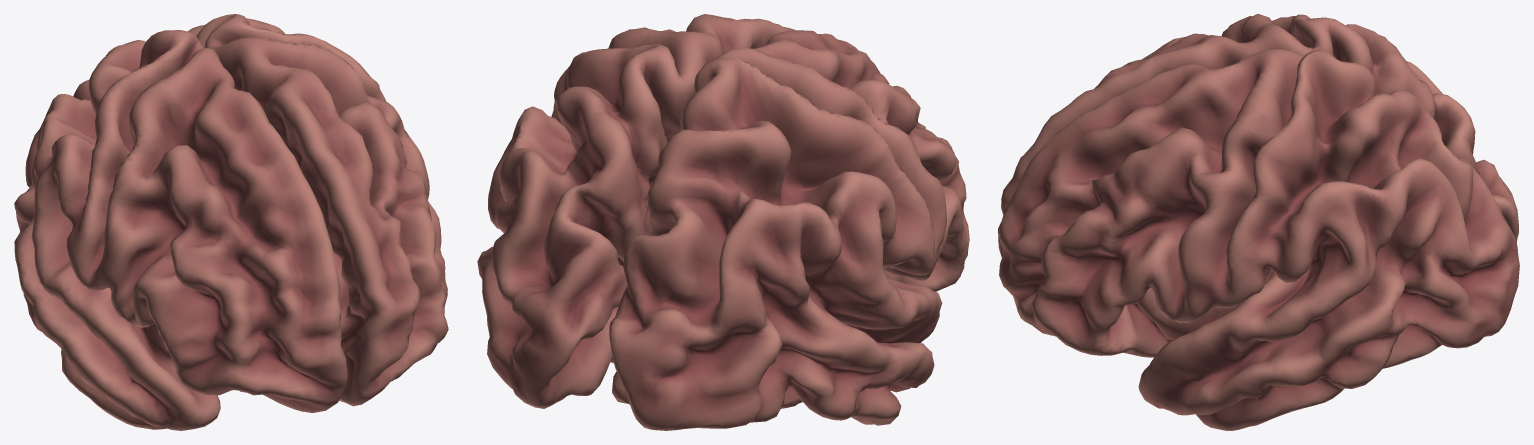
The model's file is anatomical-brain.glb.
The picture shows the model from 3 angles, left to right: view 1: azimuth 30°, elevation 25°; view 2: azimuth 150°, elevation 25°; view 3: azimuth 270°, elevation 25°; orthographic projection. The views are drawn at different scales.
Parts seen in each view (by area): view 1: right cerebral hemisphere, left cerebral hemisphere; view 2: right cerebral hemisphere, left cerebral hemisphere; view 3: left cerebral hemisphere, right cerebral hemisphere.
Boxes of the visible parts, <box> form: right cerebral hemisphere: <box>14,30,347,430</box>; left cerebral hemisphere: <box>187,14,448,406</box>; right cerebral hemisphere: <box>609,30,969,430</box>; left cerebral hemisphere: <box>477,14,795,408</box>; left cerebral hemisphere: <box>998,49,1519,430</box>; right cerebral hemisphere: <box>998,14,1518,257</box>.
Size of the model in its own units: 1.83 by 1.69 by 2.3.
